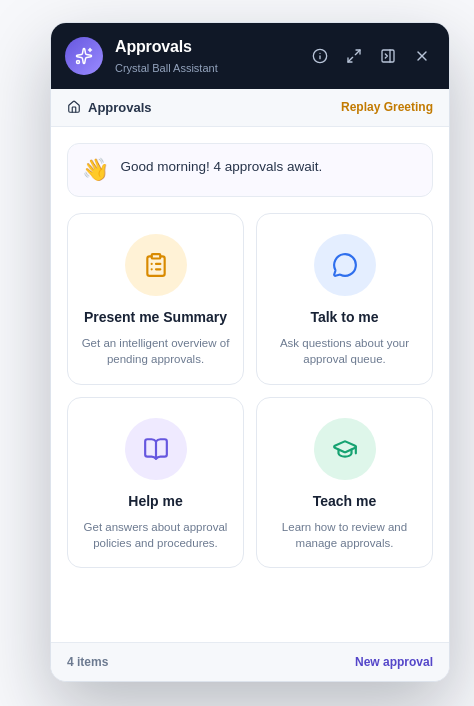
it: AssistantPanel › Talk to me: chat states › ERROR: a rate limit tells the user how long to wait
The width and height of the screenshot is (474, 706).
Click the button "Talk to me Ask questions about your approval queue.".
click(344, 299)  # box 256,213 -> 433,385
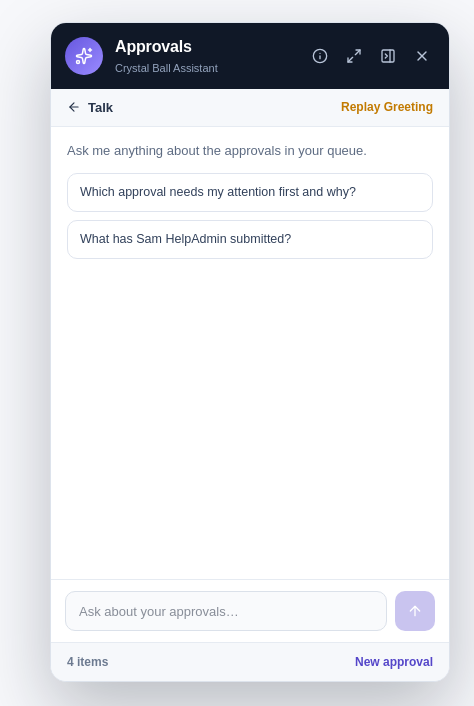
Type "Hi" into the field named "message".
click(226, 611); type("Hi")  # box 65,591 -> 387,631
Then press Enter
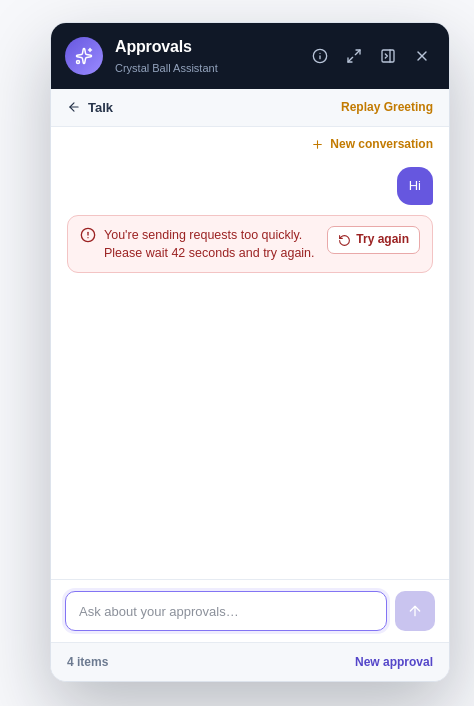
Expected: the message shows "42 seconds", 104,228 -> 314,260
